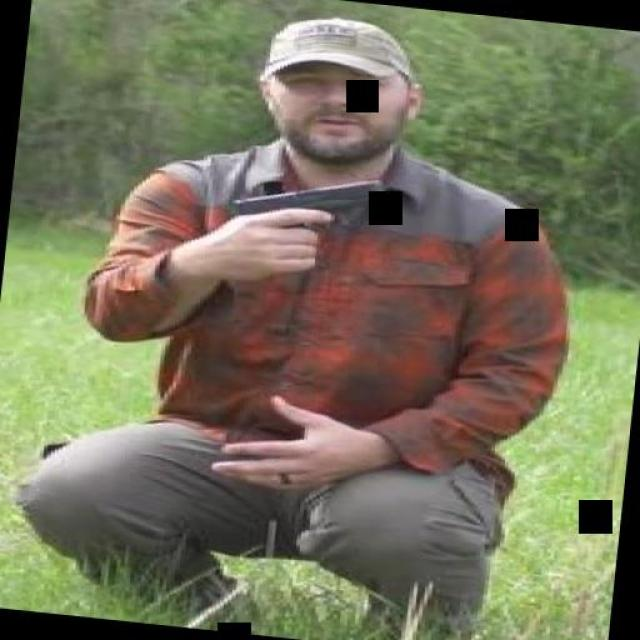gun: (216, 161, 399, 280)
